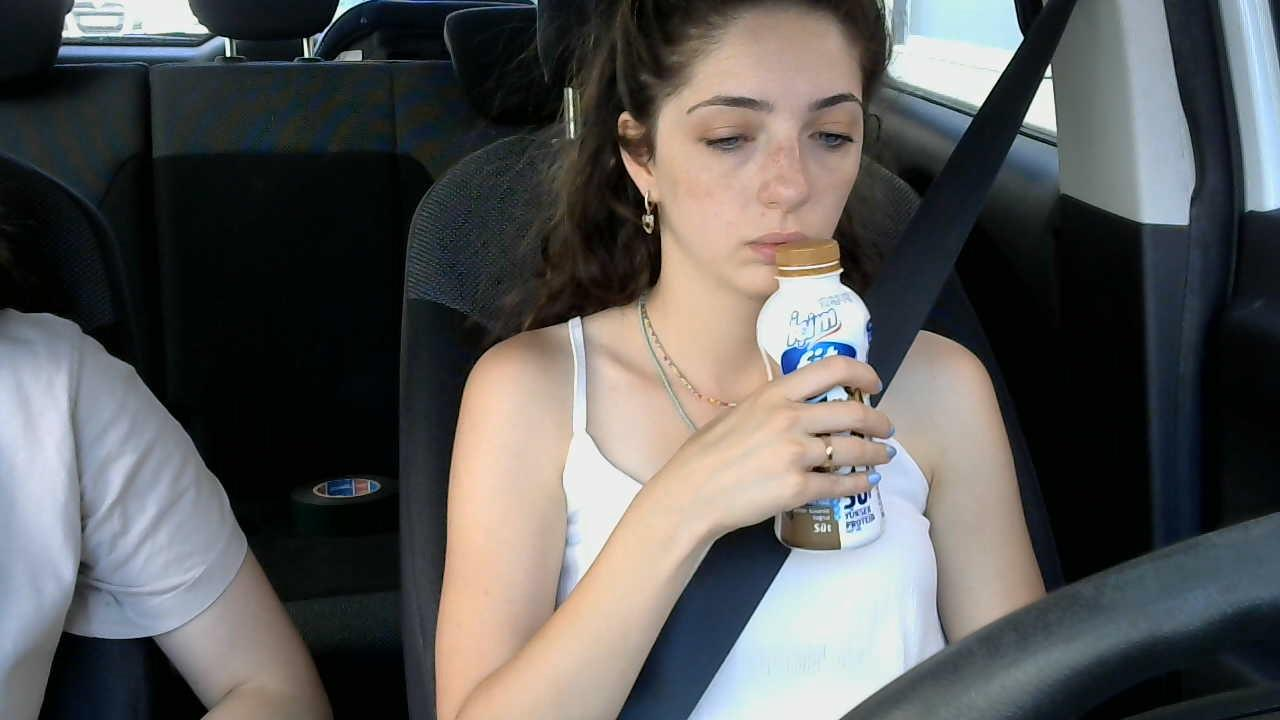Drinking: (622, 5, 895, 529)
